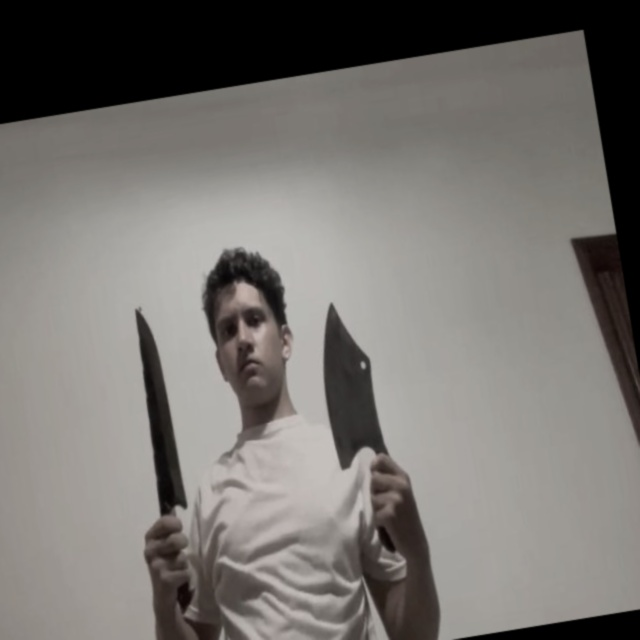Sharp-Object: (309, 297, 387, 473), (127, 305, 192, 515)
